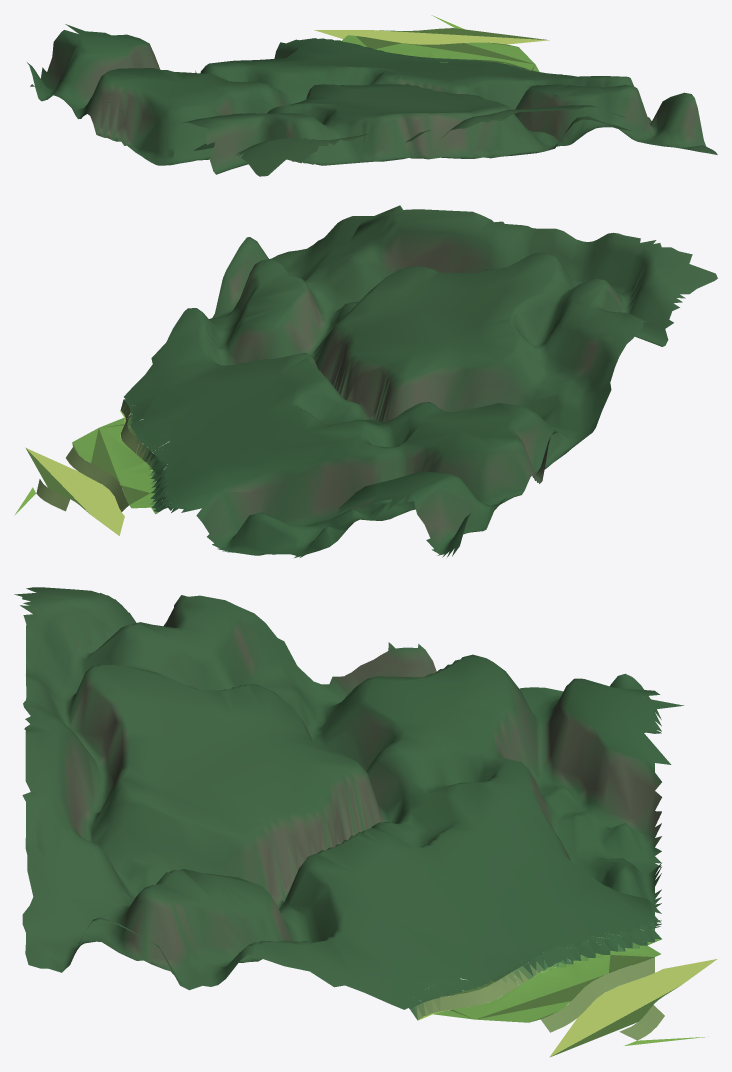
File: payo_land_xm3_y8_lod1.glb
3 renders of one model, top to bottom at view 1: azimuth 30°, elevation 25°; view 2: azimuth 150°, elevation 25°; view 3: azimuth 270°, elevation 25°, orthographic. The views are drawn at different scales.
Visible parts, largest first — view 1: payo_land_xm3_y8; view 2: payo_land_xm3_y8; view 3: payo_land_xm3_y8.
Part boxes in pixels (left/top/right/bottom): payo_land_xm3_y8: left=27, top=15, right=717, bottom=176; payo_land_xm3_y8: left=14, top=205, right=717, bottom=557; payo_land_xm3_y8: left=14, top=587, right=717, bottom=1057.
Bounding box in the file's own units: 286 × 94.86 × 285.
